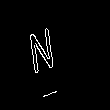N_S: (40, 26, 70, 84)
